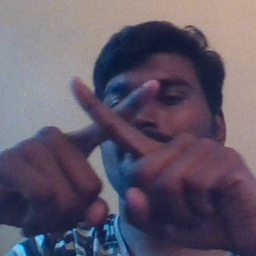X: (46, 67, 192, 210)
